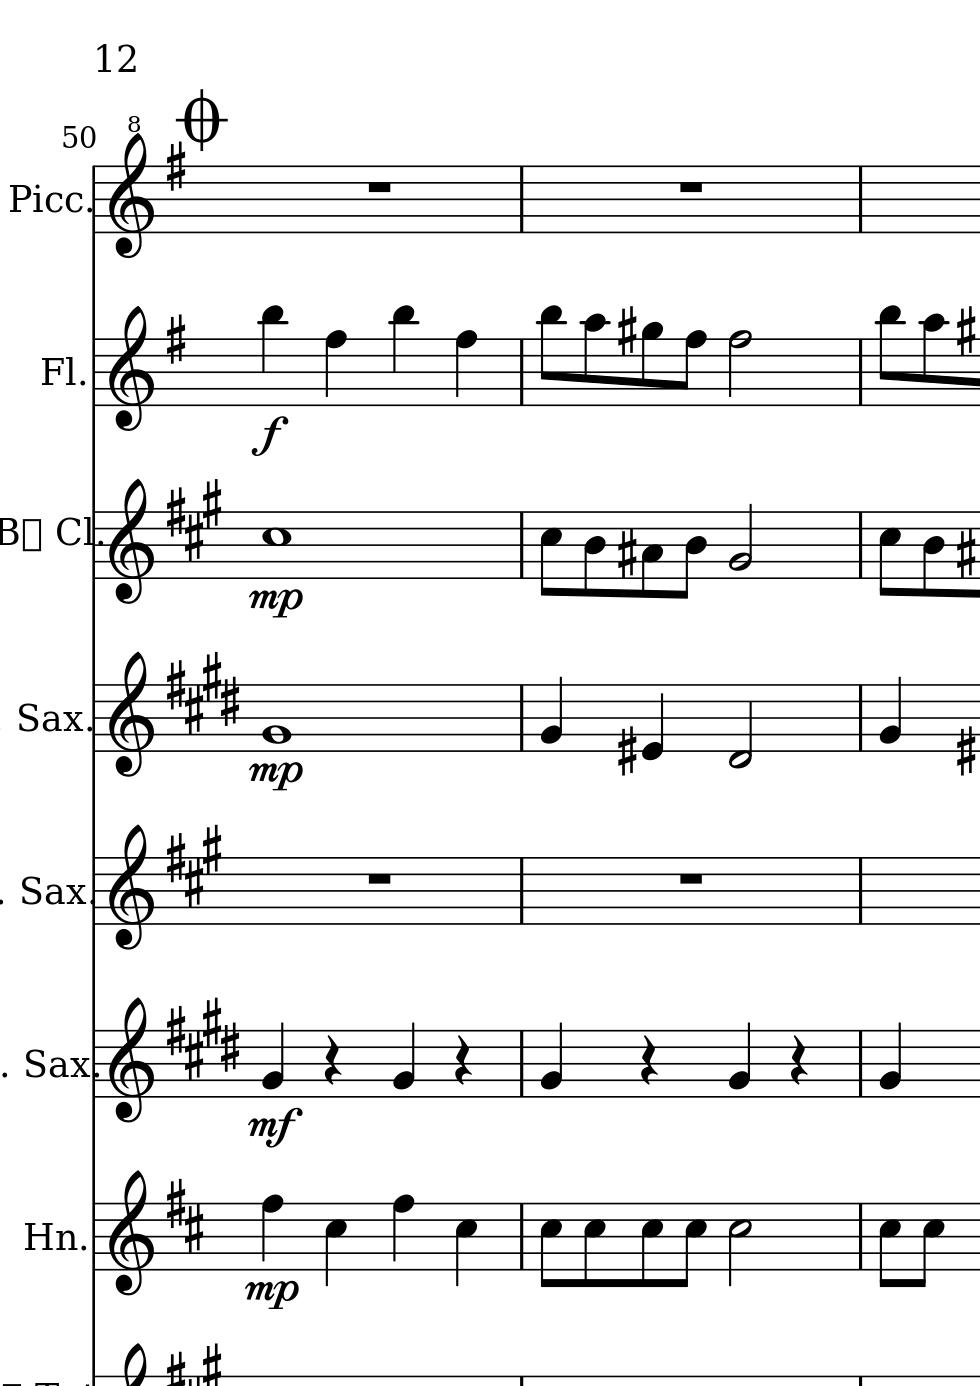0: (78, 122, 95, 151)
1: (95, 42, 112, 74)
1_2: (263, 680, 292, 755)
1_5: (260, 509, 291, 579)
2: (113, 42, 138, 74)
2_-1: (727, 682, 753, 768)
2_2: (727, 501, 754, 580)
2_5: (725, 1203, 751, 1289)
2_8: (727, 328, 754, 409)
4_0: (640, 682, 664, 761)
4_11: (257, 302, 286, 406), (388, 304, 417, 407)
4_2: (539, 1020, 566, 1100), (727, 1020, 753, 1100), (391, 1019, 417, 1099), (539, 674, 564, 753), (261, 1021, 286, 1098), (878, 1020, 903, 1099), (878, 674, 903, 752)
4_5: (453, 1201, 478, 1289), (323, 1201, 348, 1288)
4_8: (258, 1193, 284, 1270), (453, 329, 478, 408), (323, 328, 348, 408), (390, 1193, 415, 1273)
5: (62, 121, 78, 151)
8_10: (920, 310, 947, 408), (581, 311, 606, 408)
8_11: (536, 304, 566, 408), (876, 304, 904, 409)
8_3: (638, 510, 664, 600)
8_4: (676, 510, 707, 601), (580, 510, 606, 598), (920, 510, 944, 599)
8_5: (913, 1201, 945, 1289), (677, 1201, 707, 1289), (536, 510, 562, 598), (537, 1201, 563, 1289), (876, 509, 902, 598), (876, 1201, 902, 1291), (581, 1201, 606, 1289), (638, 1201, 663, 1289)
8_8: (675, 329, 706, 407)
8_9: (637, 321, 663, 407)
A_S: (167, 477, 222, 562), (167, 824, 222, 907)
Cl: (55, 513, 91, 549)
Coda: (174, 89, 225, 150)
D_S: (164, 1176, 204, 1255)
E_S: (161, 997, 243, 1083), (165, 650, 242, 735)
Fl: (37, 351, 78, 392)
Gclef: (107, 650, 157, 779), (107, 823, 157, 952), (107, 995, 156, 1125), (106, 477, 155, 607), (106, 1169, 155, 1297), (106, 305, 154, 432)
High_Gclef: (106, 113, 153, 261)
Hn: (22, 1217, 77, 1257)
Picc: (10, 176, 83, 220)
Rests1: (364, 869, 395, 888), (675, 869, 706, 887), (364, 178, 395, 196), (675, 178, 706, 195)
Rests4: (321, 1033, 344, 1088), (451, 1034, 473, 1088), (787, 1034, 809, 1088), (637, 1033, 659, 1088)
Sax: (15, 869, 88, 916), (17, 1042, 92, 1088), (13, 696, 86, 741)
Sharp: (163, 313, 187, 366), (614, 526, 637, 579), (953, 527, 977, 580), (163, 141, 187, 193), (615, 304, 637, 357), (615, 723, 637, 776), (953, 724, 976, 777), (955, 304, 976, 357)
Single_barline: (851, 1204, 870, 1268), (512, 512, 530, 578), (852, 512, 870, 578), (513, 1030, 530, 1096), (513, 685, 530, 751), (852, 1030, 868, 1096), (513, 166, 529, 232), (852, 166, 868, 232), (852, 339, 868, 405), (513, 858, 529, 924), (513, 1204, 529, 1269), (87, 339, 102, 405), (514, 339, 529, 405), (852, 858, 867, 924), (88, 165, 102, 235), (853, 685, 868, 750), (88, 1030, 102, 1099), (88, 511, 102, 579), (87, 685, 101, 752), (87, 858, 101, 925), (88, 1203, 100, 1271)
f: (250, 415, 288, 457)
mf: (247, 1106, 302, 1148)
mp: (246, 587, 305, 620), (246, 761, 305, 794), (241, 1279, 300, 1312)
